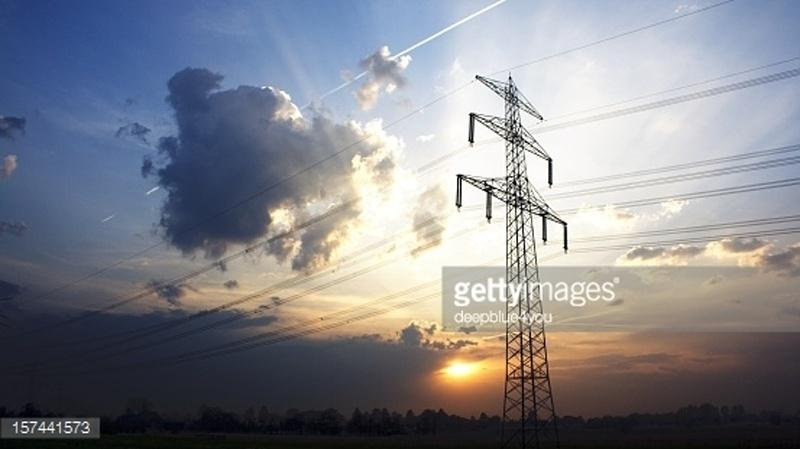power_tower: (441, 63, 589, 437)
